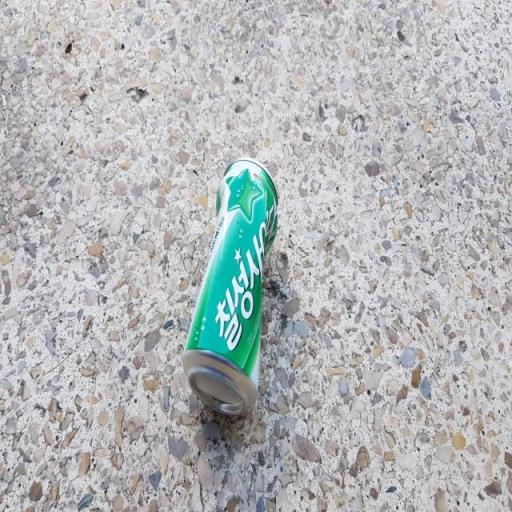metal: (163, 124, 300, 462)
